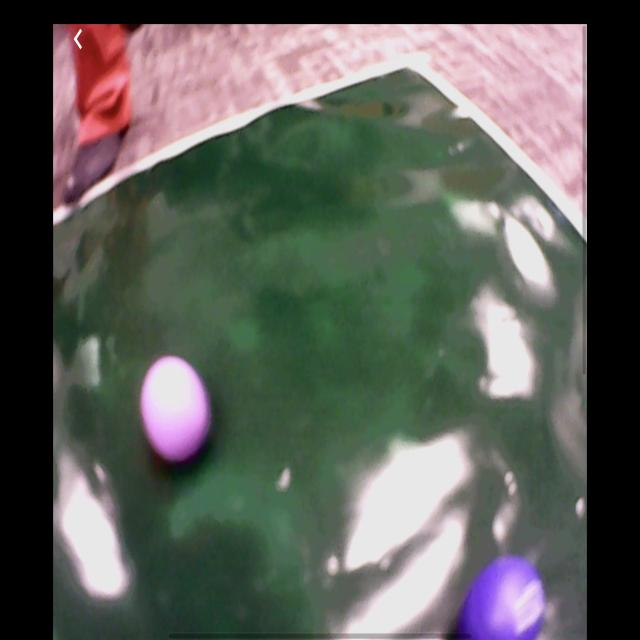ball: (460, 555, 547, 640), (141, 358, 212, 461)
